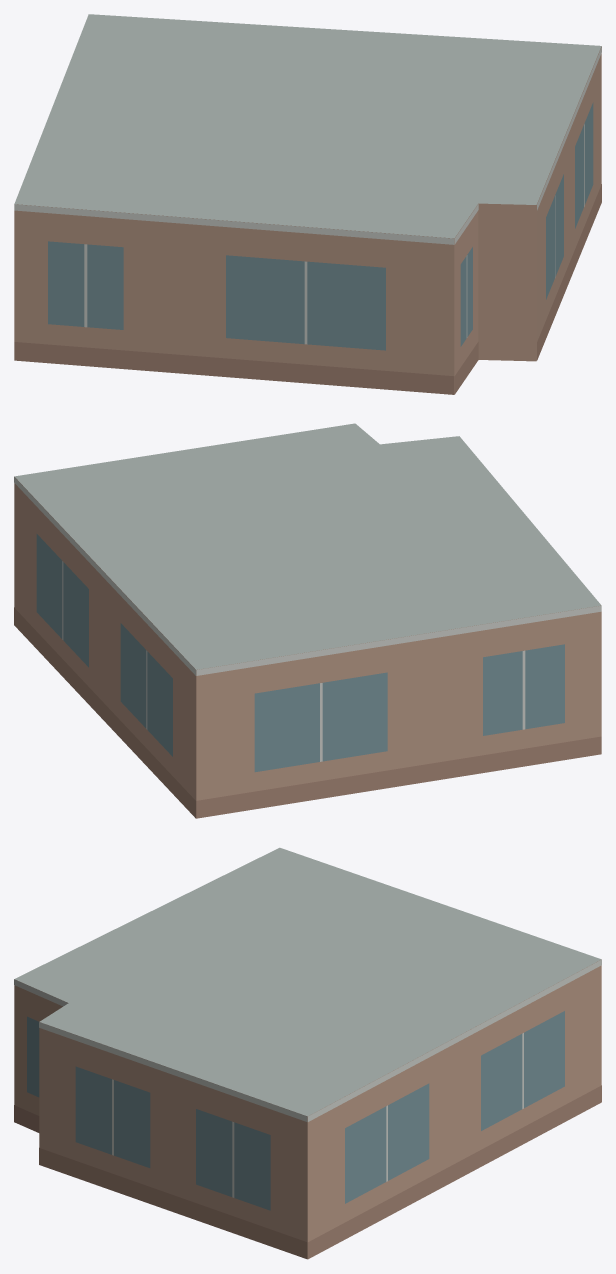
File: survey-upis-32752923.glb
3 views of the same model, one above another, from view 1: azimuth 30°, elevation 25°; view 2: azimuth 150°, elevation 25°; view 3: azimuth 270°, elevation 25° (orthographic). The views are drawn at different scales.
Parts seen in each view (by area): view 1: survey-upis-32752923.tmp; view 2: survey-upis-32752923.tmp; view 3: survey-upis-32752923.tmp.
Boxes of the visible parts, x1,y1,x2,y2 form: survey-upis-32752923.tmp: (14, 14, 601, 394); survey-upis-32752923.tmp: (14, 423, 601, 818); survey-upis-32752923.tmp: (14, 847, 601, 1259).
Bounding box in the file's own units: 12.31 × 3.05 × 11.37.
